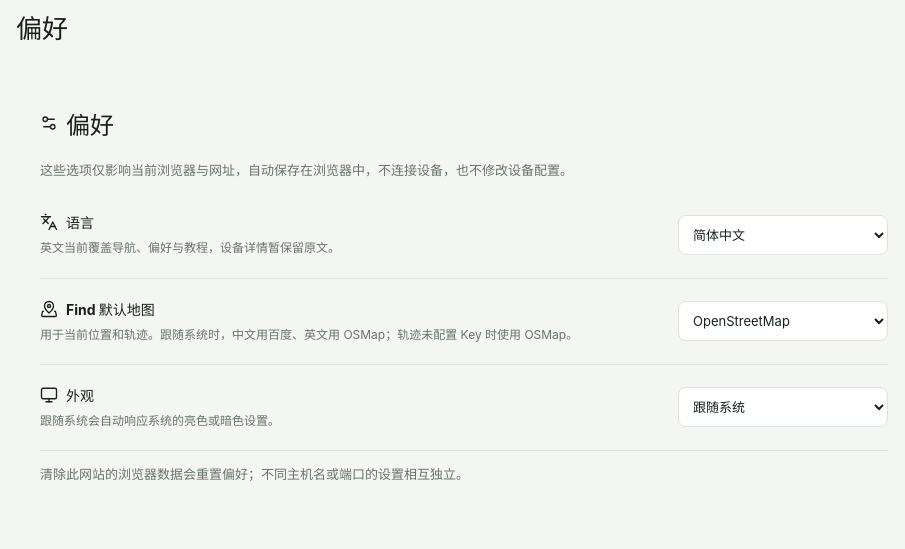
Test: browser-only preferences › storage failure retains the session preference and displays a warning
This screenshot has width=905, height=549.
Select "English" in the dropdown named "语言" at (783,235), box [678,215,888,255]
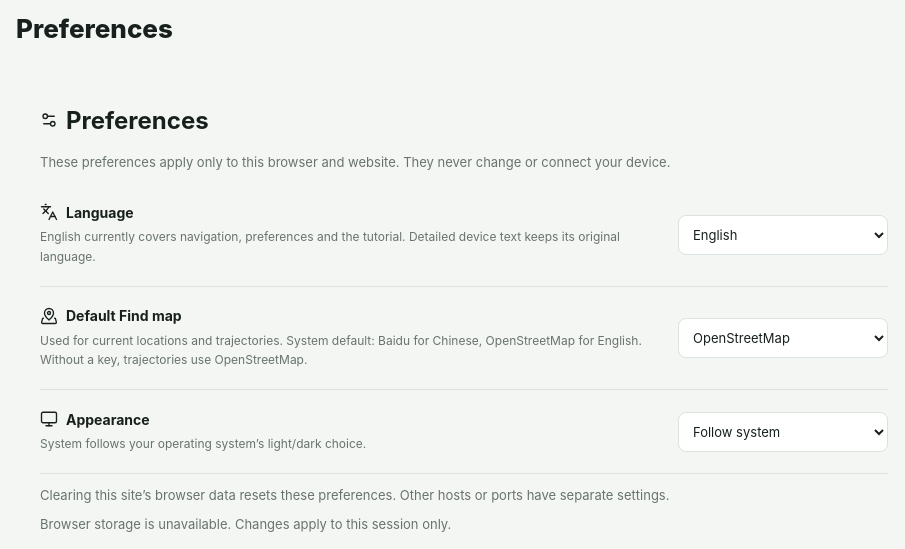
Result: the message "Browser storage is unavailable. Changes apply to this session only." is shown at [40,516,451,532]
